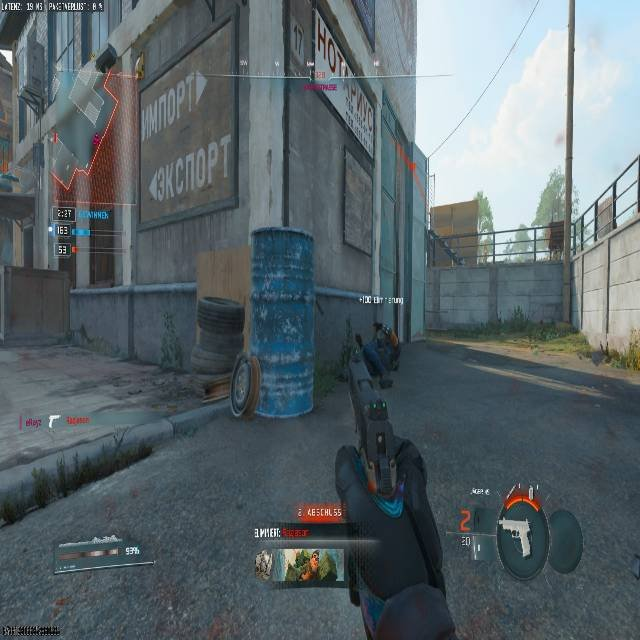head: (95, 44, 120, 75), (373, 320, 386, 334)
player: (353, 321, 397, 391)
